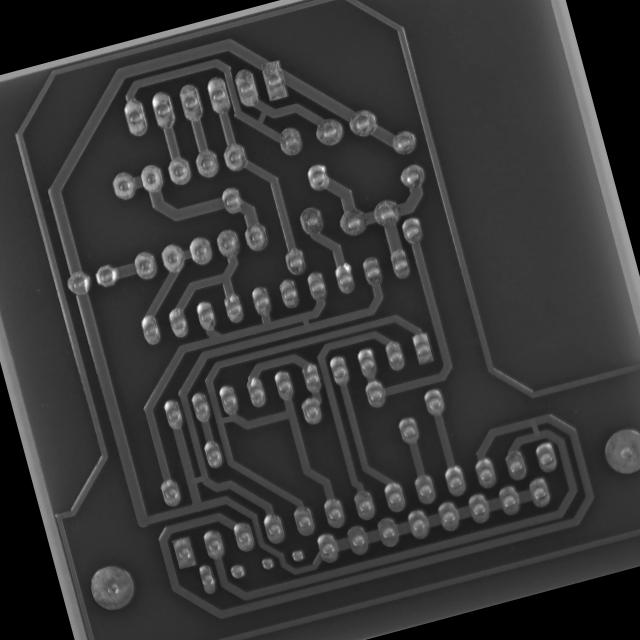short: (211, 401, 246, 435), (244, 98, 277, 134), (518, 410, 550, 444), (178, 464, 213, 494), (289, 307, 320, 335)
